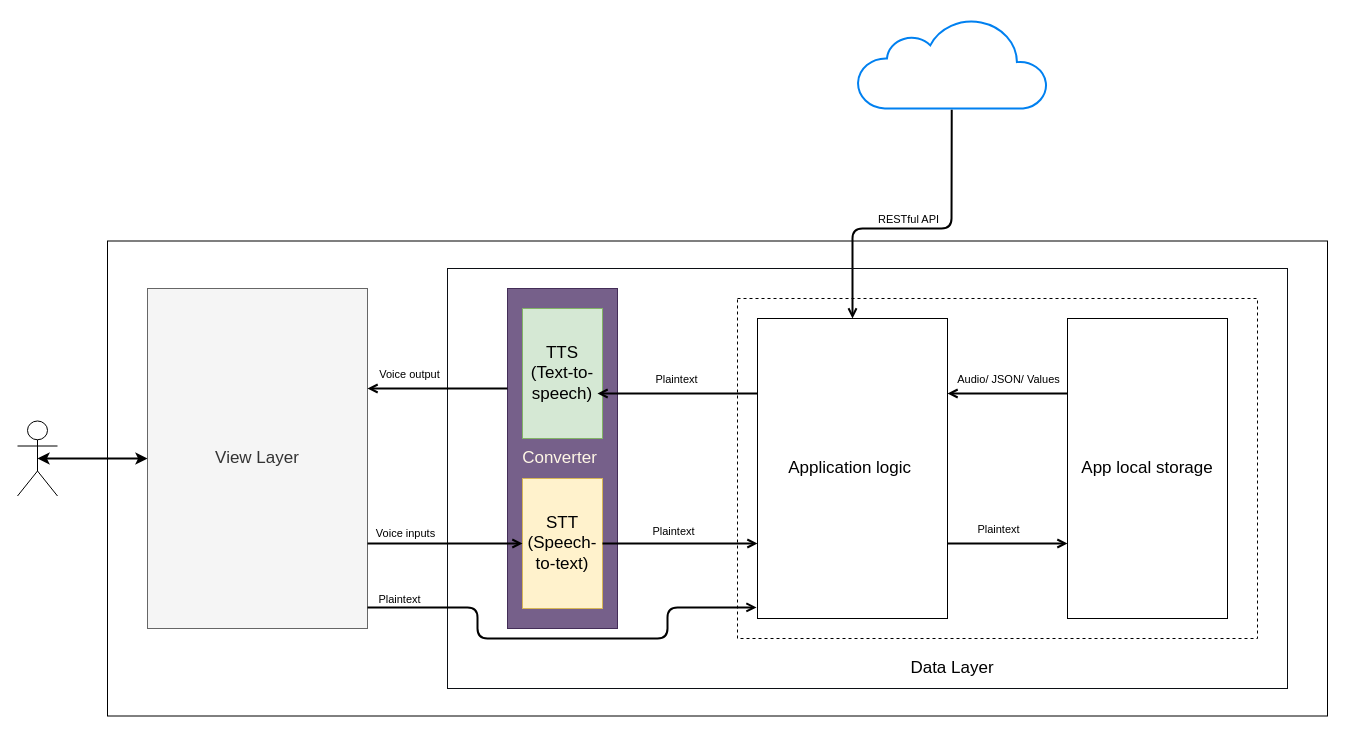
Image size: 1345x733. Some labels were removed from this diagram. The centre of each missing label's shape, as x and y in pixels:
Google Cloud Platform: the point at 952,63
User: the point at 37,458
